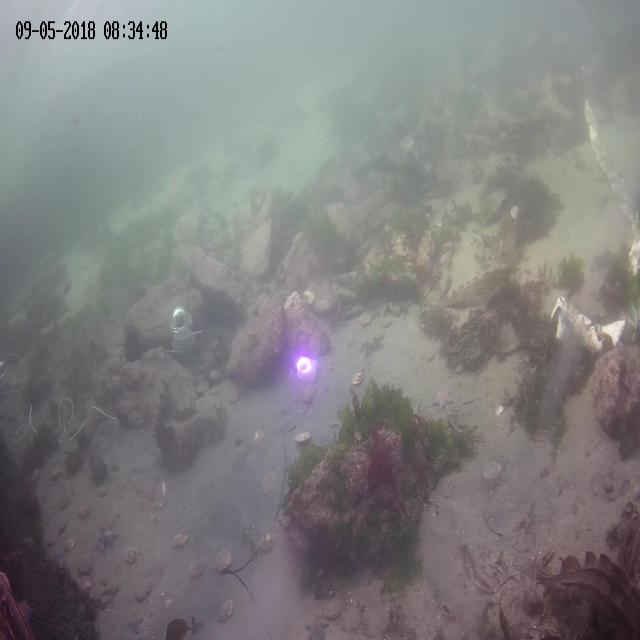scallop: (484, 456, 502, 486), (258, 524, 276, 552), (262, 466, 279, 494), (74, 554, 94, 577), (344, 602, 358, 634), (214, 545, 230, 573), (326, 596, 342, 622), (218, 596, 234, 622), (188, 557, 204, 580), (170, 530, 190, 548), (301, 384, 316, 406), (124, 543, 138, 566), (296, 429, 312, 448), (44, 527, 59, 547), (227, 388, 241, 407), (54, 514, 68, 532), (352, 370, 365, 388), (194, 382, 207, 400), (100, 594, 112, 611), (50, 469, 62, 483), (78, 502, 86, 520), (106, 581, 118, 593), (210, 381, 220, 394), (66, 533, 72, 551)
starfish: (304, 613, 328, 640), (432, 387, 454, 411)
